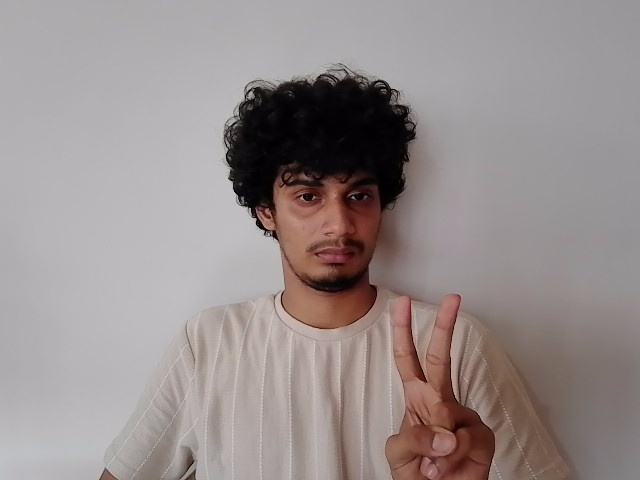travel: (376, 283, 509, 477)
